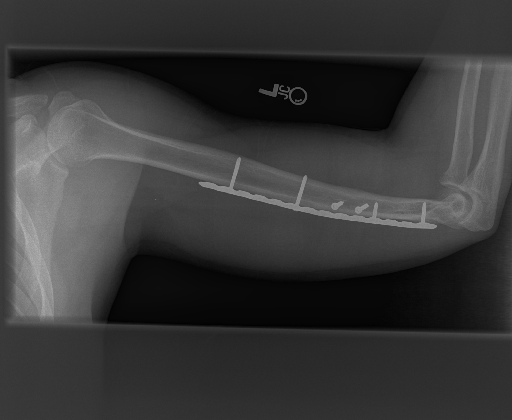implant: (199, 154, 437, 232)
